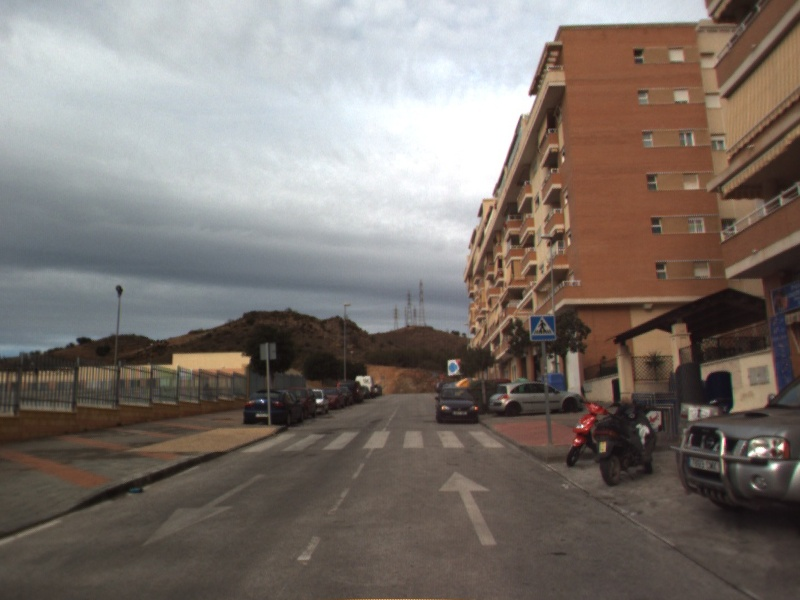STRAIGHT: (437, 469, 500, 547)
